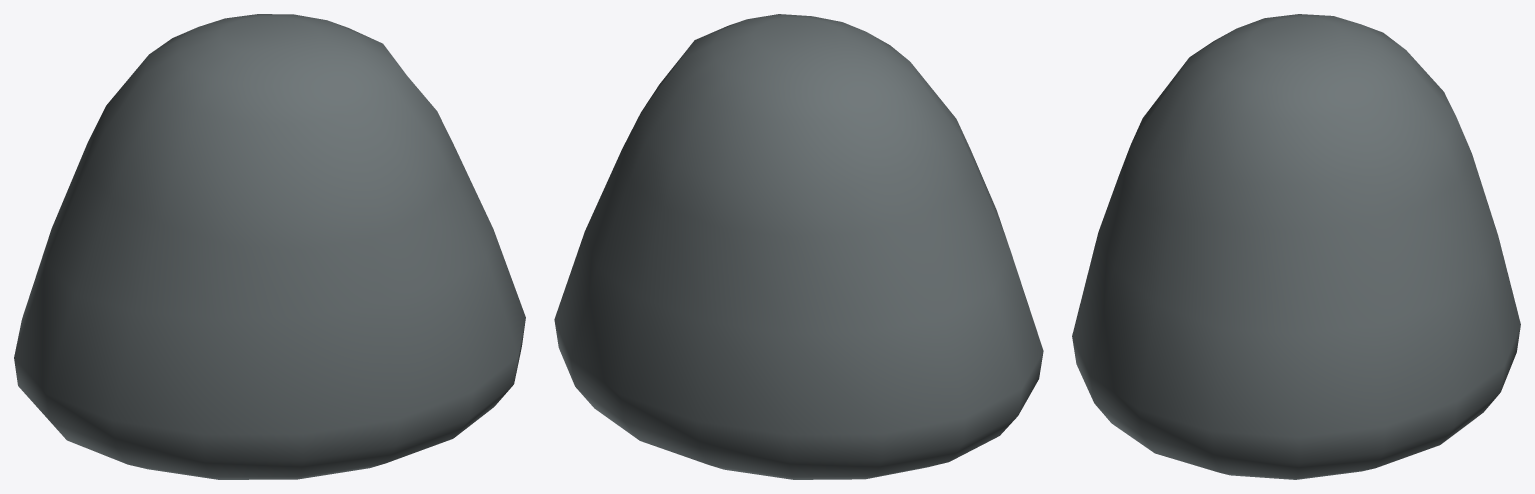
The model's file is Stone02.fbx.
The picture shows the model from 3 angles, left to right: view 1: azimuth 30°, elevation 25°; view 2: azimuth 150°, elevation 25°; view 3: azimuth 270°, elevation 25°; orthographic projection. The views are drawn at different scales.
Visible parts, largest first — view 1: Stone02; view 2: Stone02; view 3: Stone02.
Part boxes in pixels (x1,y1,x2,y2): Stone02: (14, 14, 525, 479); Stone02: (554, 14, 1043, 479); Stone02: (1072, 14, 1520, 479).
Bounding box in the file's own units: 95.05 × 76 × 84.46.
